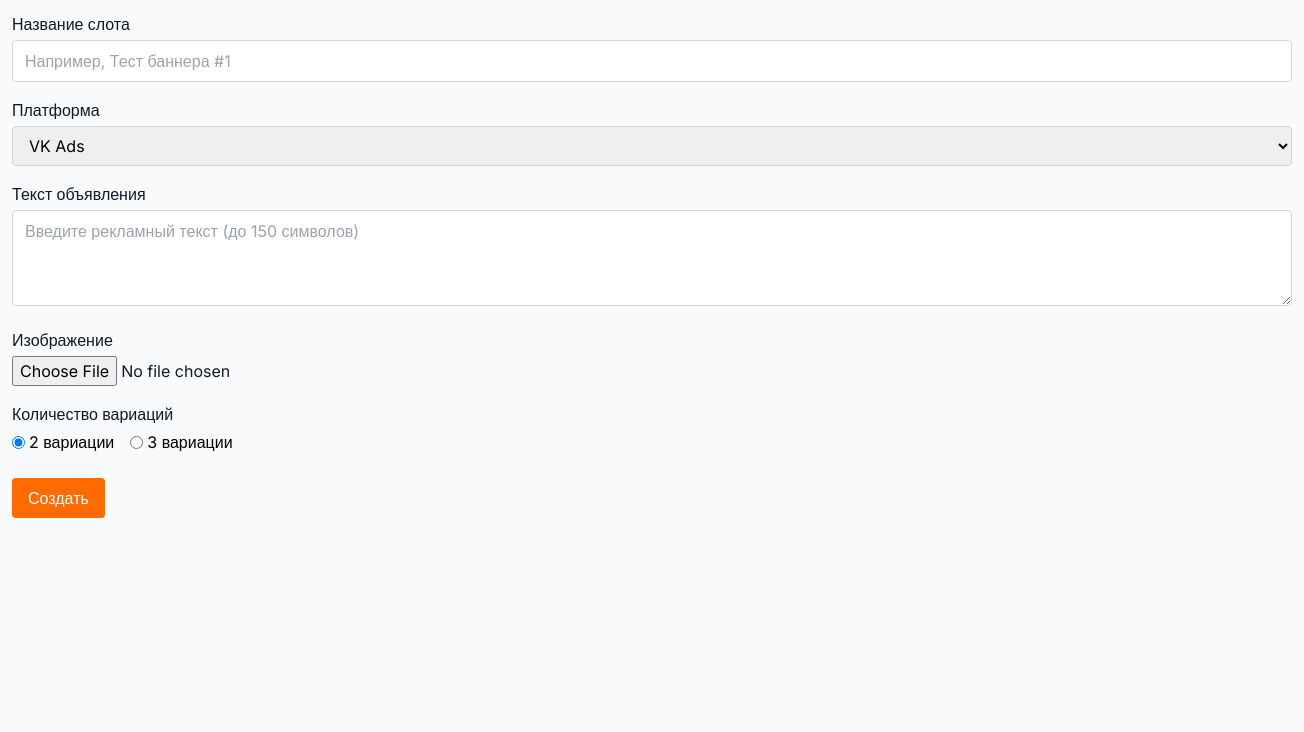
Test: SlotForm Component › Показывает ошибки валидации для обязательных полей
Submit without filling anything
Click the button "Создать".
click(58, 498)  # box [12,478,105,518]
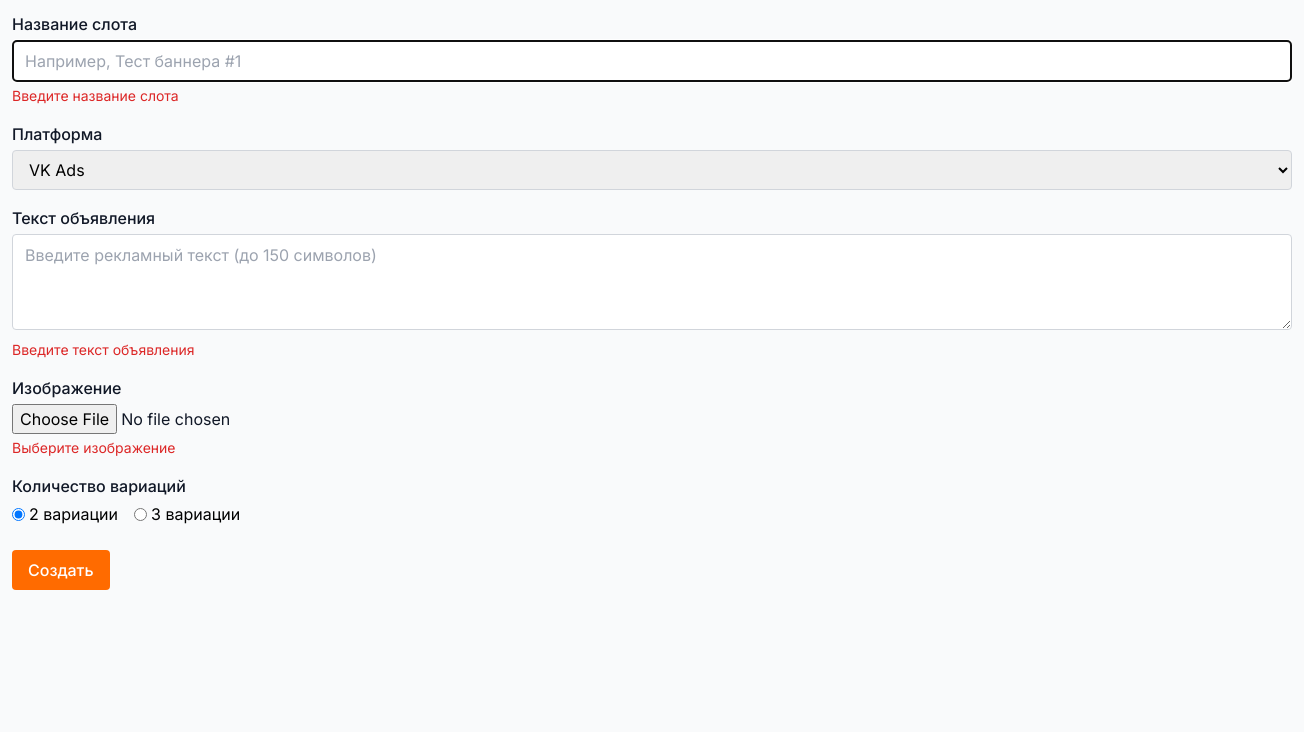
expect the text "Введите название слота" is shown: met, box [12,87,179,104]
expect the text "Введите текст объявления" is shown: met, box [12,341,194,358]
expect the text "Выберите изображение" is shown: met, box [12,439,176,456]
